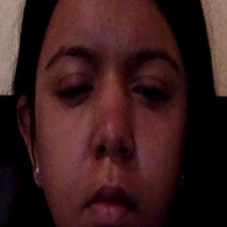drowsy: (42, 37, 181, 227)
